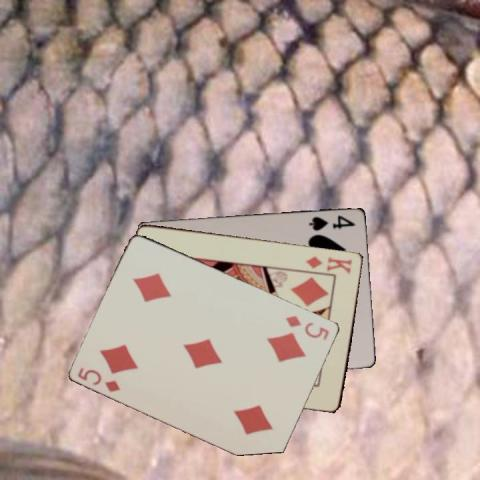4s: (306, 211, 357, 232)
5d: (282, 312, 330, 341), (75, 365, 122, 393)
Kd: (303, 253, 354, 275)
